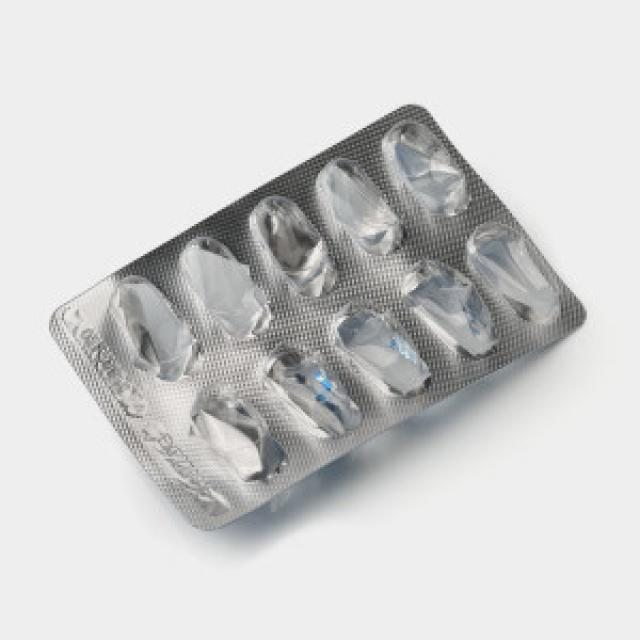Empty: (453, 205, 584, 345), (167, 221, 295, 360), (174, 370, 307, 503), (95, 261, 221, 395), (390, 243, 516, 371), (320, 285, 449, 410), (250, 329, 379, 453), (370, 105, 488, 237), (240, 182, 356, 316), (306, 148, 422, 270)
